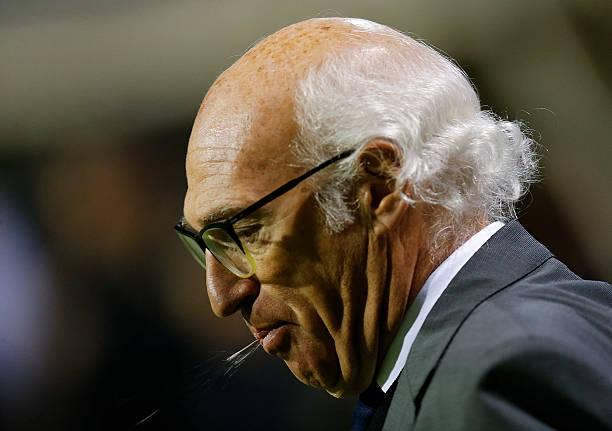Spitting: (110, 0, 506, 388)
